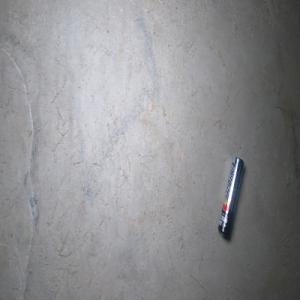Battery: (217, 156, 244, 240)
